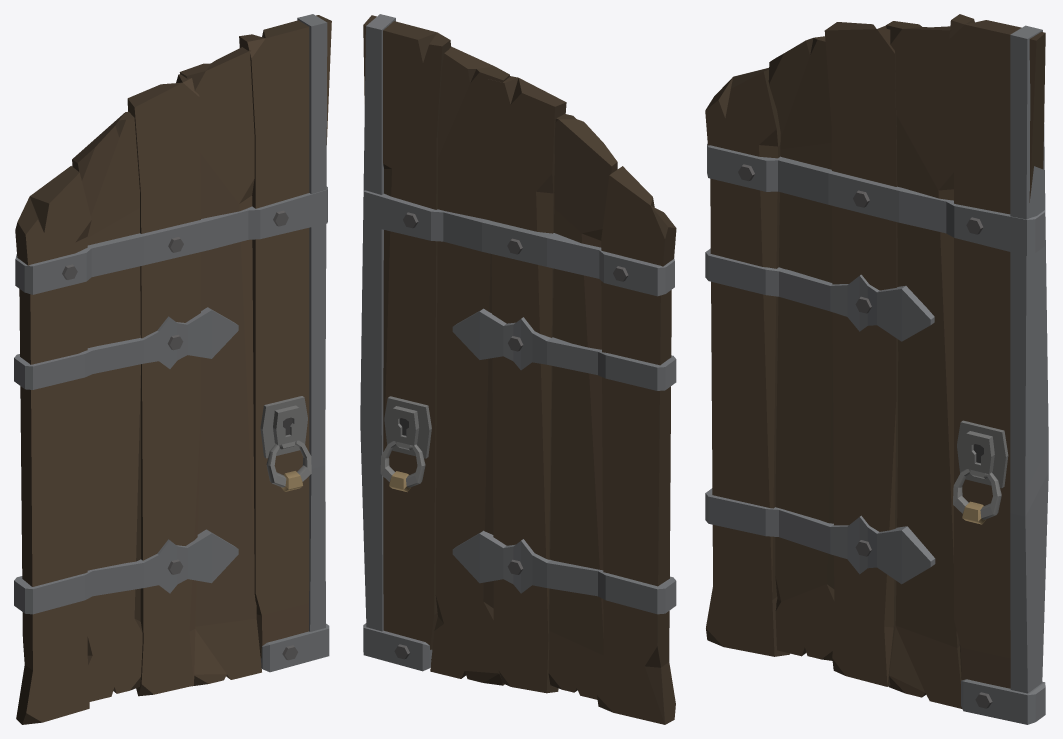
The model's file is SM_Env_DoorDouble_Round_01.FBX.
3 renders of one model, left to right at view 1: azimuth 30°, elevation 25°; view 2: azimuth 150°, elevation 25°; view 3: azimuth 330°, elevation 25°, orthographic. The views are drawn at different scales.
Parts seen in each view (by area): view 1: SM_Env_DoorDouble_Round_01; view 2: SM_Env_DoorDouble_Round_01; view 3: SM_Env_DoorDouble_Round_01.
Part boxes in pixels (bbox=[...]): SM_Env_DoorDouble_Round_01: bbox=[14, 14, 331, 724]; SM_Env_DoorDouble_Round_01: bbox=[360, 14, 676, 724]; SM_Env_DoorDouble_Round_01: bbox=[705, 14, 1048, 724].
Size of what is drawn, in the model's own units: 137 by 28.29 by 271.
